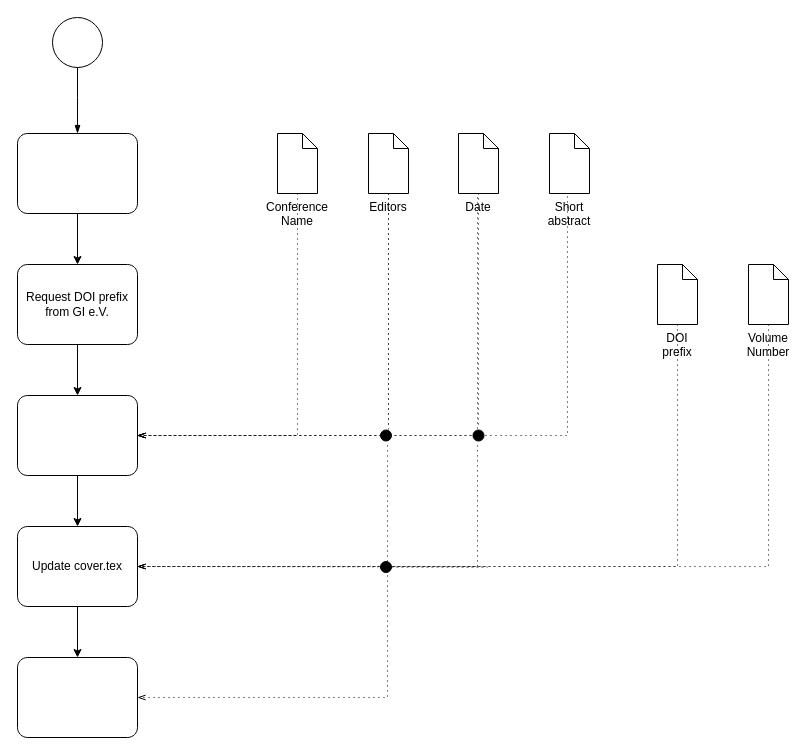
This 807x755 diagram has some shape labels left out. The centre of each missing label's shape, as x and y in pixels:
"Fill in LNI-Cover-Voralge.pptx and save as cover.pptx" goes at (77,435).
"Setup conference meta data" goes at (77,173).
"Update LNI-Startseiten.docx" goes at (77,697).
